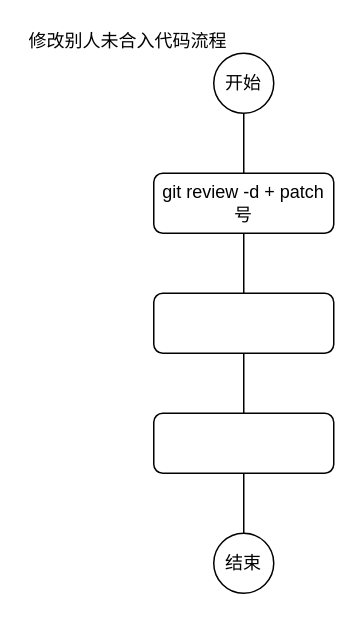
Image size: 360x620. Some labels were removed from this diagram. The centre of each missing label's shape, as x and y in pixels:
"提交到之前的patch git review" goes at (243,442).
"本地修改完git add. & git commit --amend" goes at (243,322).
